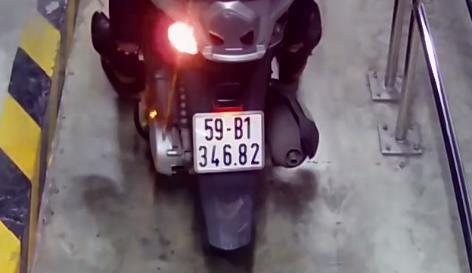lisence: (193, 113, 267, 172)
